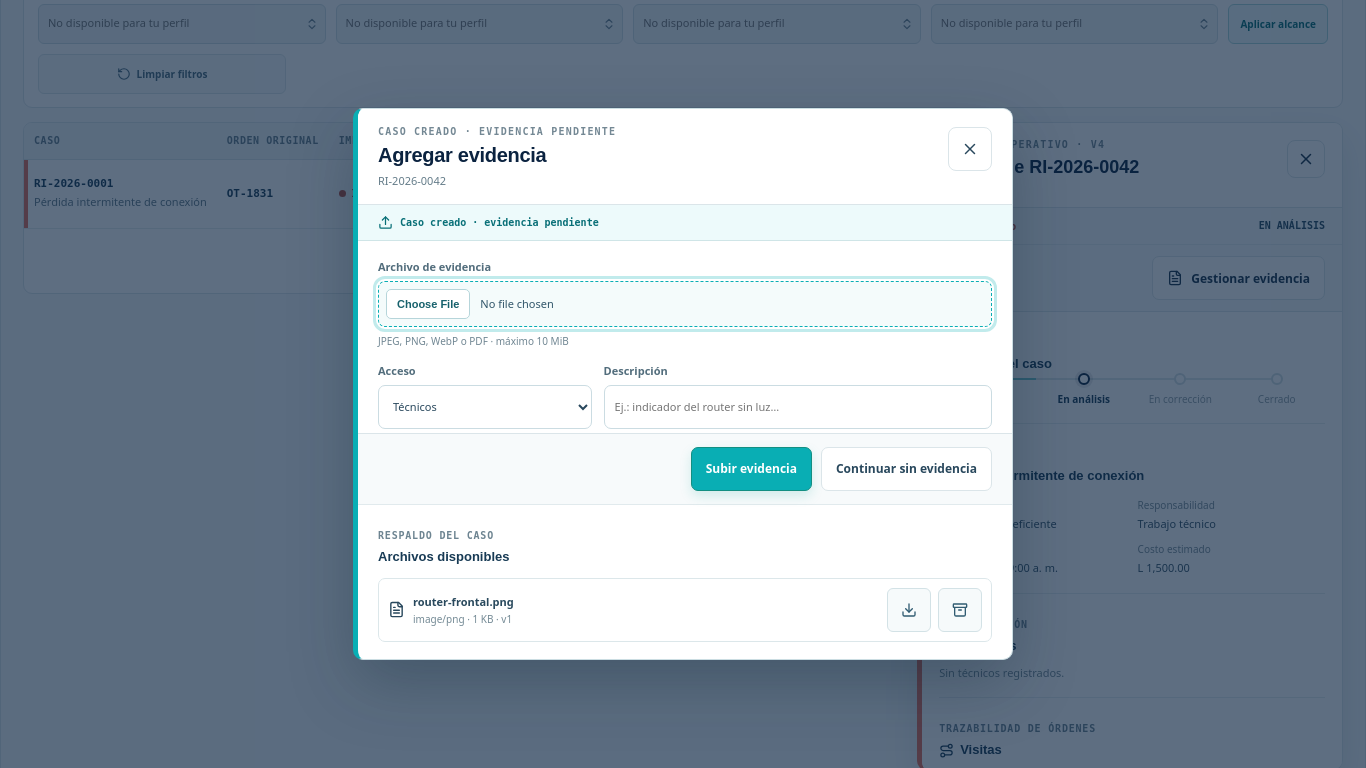
Test: RecurrencesPage › loads the real evidence list and exposes download and archive operations
The width and height of the screenshot is (1366, 768).
(page scrolled)
Expected: the text "router-frontal.png" is shown, [413,594,514,609]
Click the button named "Descargar router-frontal.png": (909, 610) [887,588,931,632]
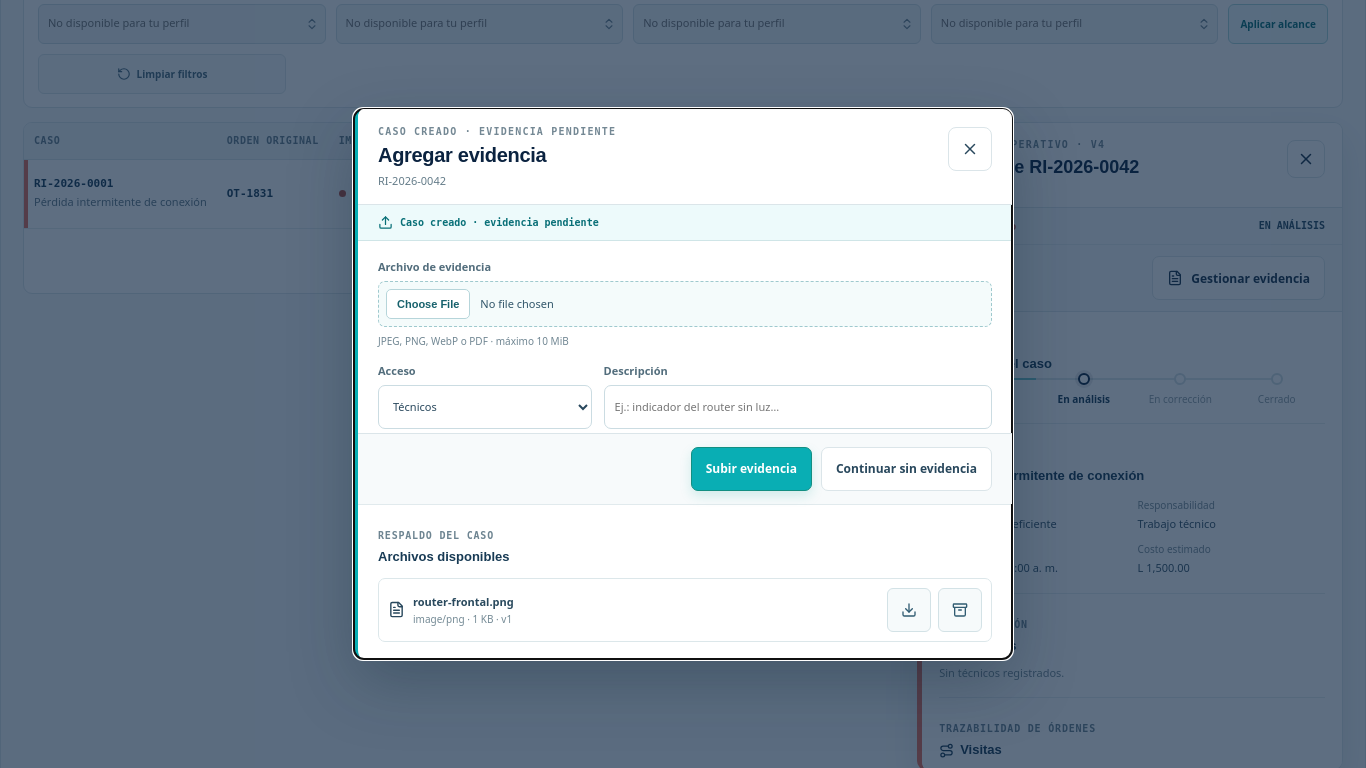
Click the button named "Archivar router-frontal.png": (960, 610) [938,588,982,632]
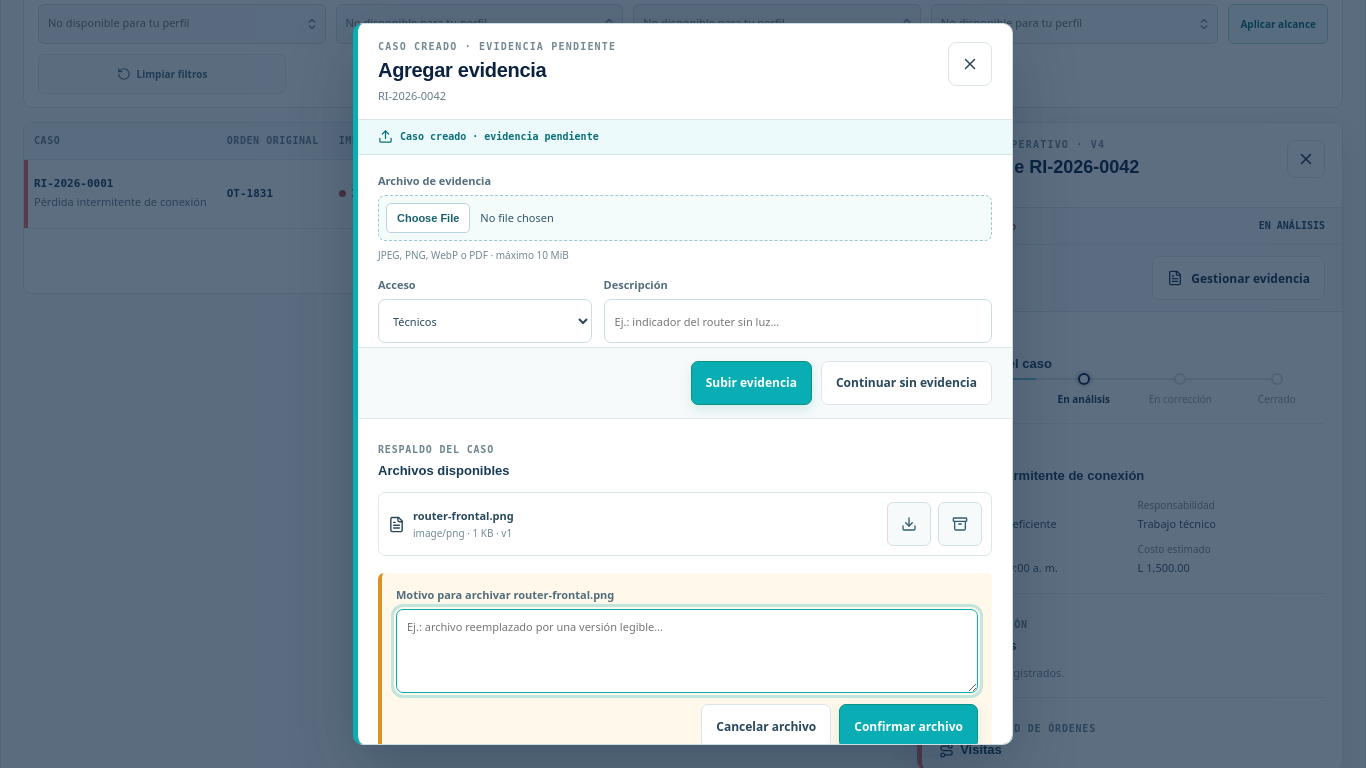
Result: the text box labelled "Motivo para archivar router-frontal.png" is shown at [396,609,978,693]
